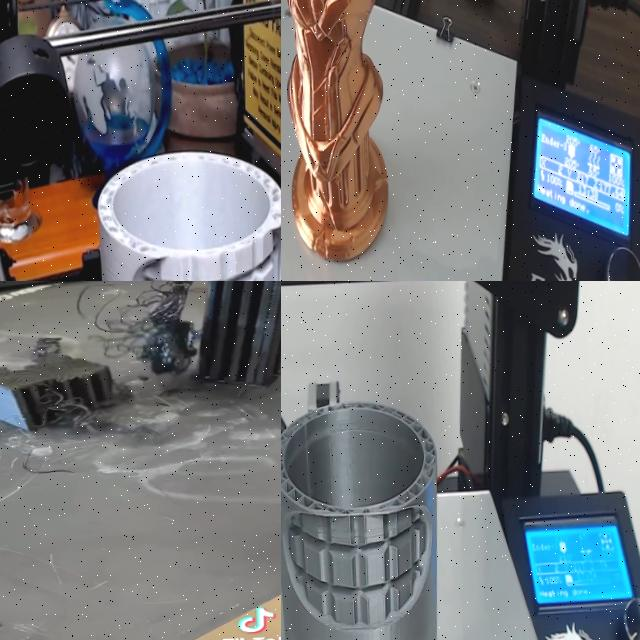spaghetti: (104, 281, 281, 375), (0, 322, 133, 441)
